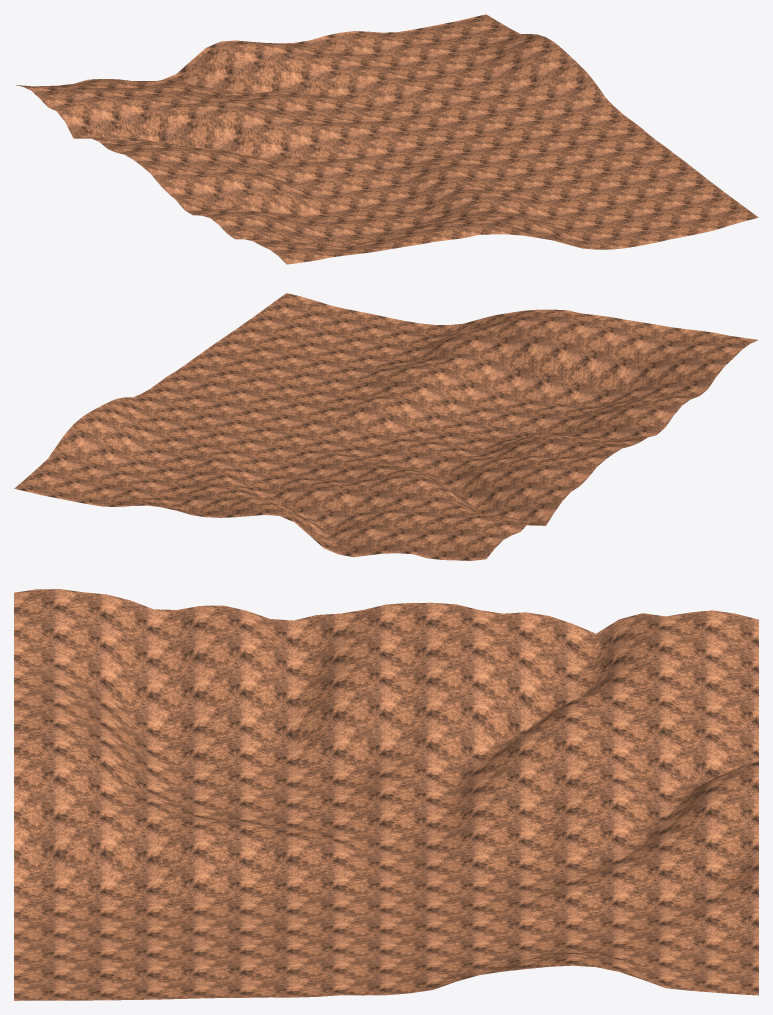
Rendered from terrain_02_01.dae.
The picture shows the model from 3 angles, top to bottom: view 1: azimuth 30°, elevation 25°; view 2: azimuth 150°, elevation 25°; view 3: azimuth 270°, elevation 25°; orthographic projection. The views are drawn at different scales.
Visible parts, largest first — view 1: terrain_02_01-node; view 2: terrain_02_01-node; view 3: terrain_02_01-node.
Boxes of the visible parts, x1,y1,x2,y2 form: terrain_02_01-node: (16,14,758,264); terrain_02_01-node: (14,293,757,560); terrain_02_01-node: (14,589,758,1000).
Size of the model in its own units: 128 by 128 by 18.82.
1 material, 1 textured.
